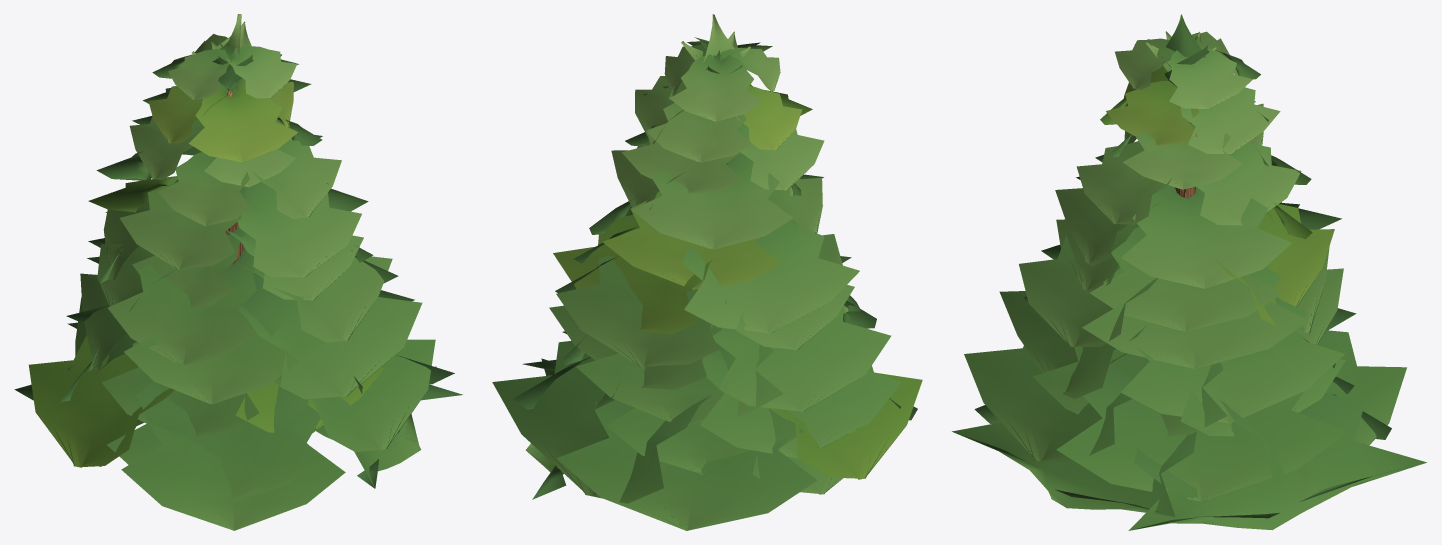
The model's file is pine_solid.glb.
The picture shows the model from 3 angles, left to right: view 1: azimuth 30°, elevation 25°; view 2: azimuth 150°, elevation 25°; view 3: azimuth 270°, elevation 25°; orthographic projection.
Visible parts, largest first — view 1: pine_solid_leaves_LOD0; view 2: pine_solid_leaves_LOD0; view 3: pine_solid_leaves_LOD0.
Part boxes in pixels (<box>): pine_solid_leaves_LOD0: <box>14,14,462,530</box>; pine_solid_leaves_LOD0: <box>492,14,922,530</box>; pine_solid_leaves_LOD0: <box>952,14,1426,530</box>.
Size of what is drawn, in the model's own units: 10.59 by 12.58 by 11.36.
Materials: 2 (1 with a texture image).
